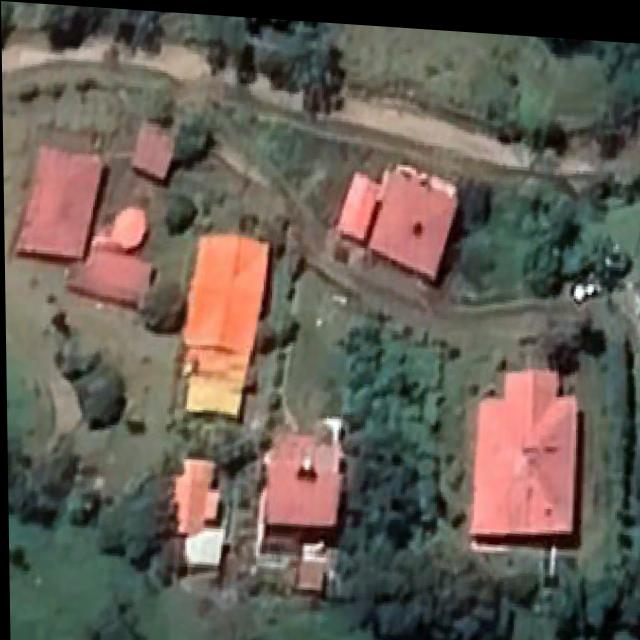Batiment: (468, 361, 576, 527), (181, 230, 268, 412), (336, 158, 454, 275), (15, 144, 101, 256), (66, 205, 152, 305), (262, 429, 340, 523), (171, 456, 218, 531), (131, 119, 172, 177), (182, 524, 222, 563), (295, 536, 324, 586)
